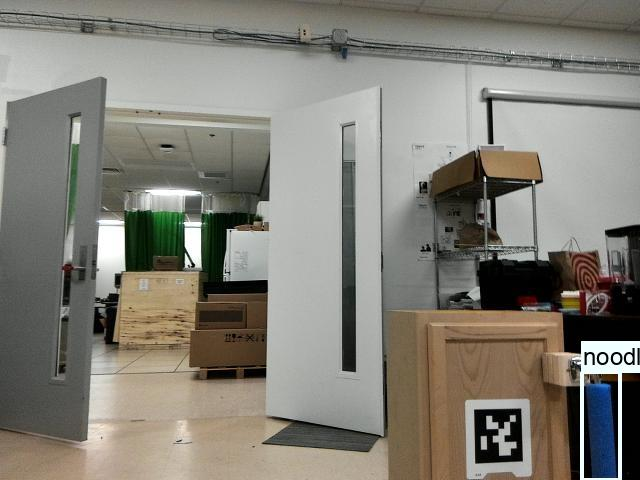noodle_handle: (582, 374, 613, 480)
